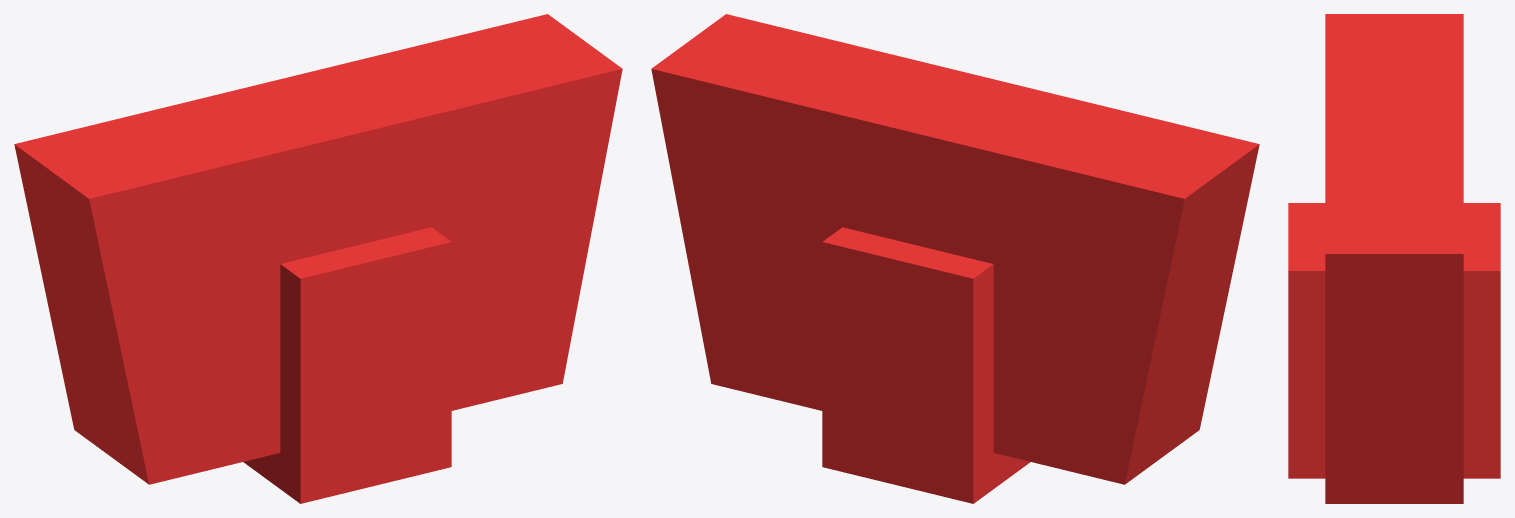
Rendered from wall_B_adornment_B.fbx.
The picture shows the model from 3 angles, left to right: view 1: azimuth 30°, elevation 25°; view 2: azimuth 150°, elevation 25°; view 3: azimuth 270°, elevation 25°; orthographic projection. The views are drawn at different scales.
Visible parts, largest first — view 1: wall_B_adornment_B; view 2: wall_B_adornment_B; view 3: wall_B_adornment_B.
Boxes of the visible parts, box(x1,y1,x2,y2) form: wall_B_adornment_B: box(14, 14, 622, 503); wall_B_adornment_B: box(651, 14, 1259, 503); wall_B_adornment_B: box(1288, 14, 1500, 503).
Bounding box in the file's own units: 50.54 × 30.5 × 18.89.
